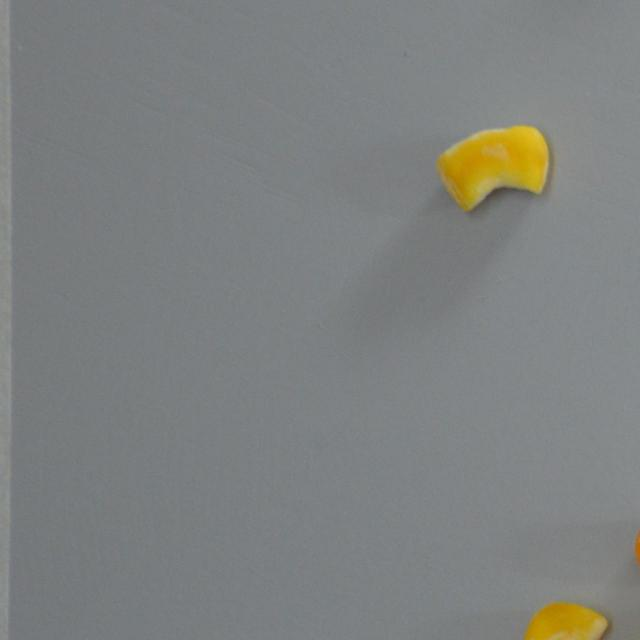no_canjicado: (436, 122, 549, 212), (520, 601, 612, 640)
